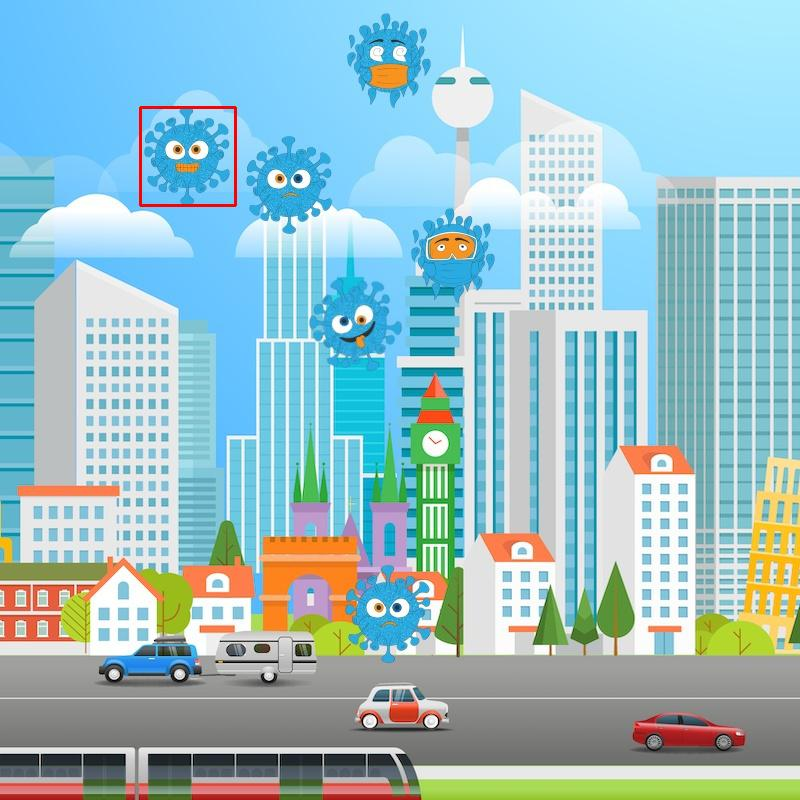corona1: (144, 108, 234, 201)
corona2: (247, 138, 335, 238), (341, 566, 432, 661)
corona3: (306, 276, 400, 369)
doctor: (404, 208, 493, 302)
paitent: (346, 15, 430, 108)
